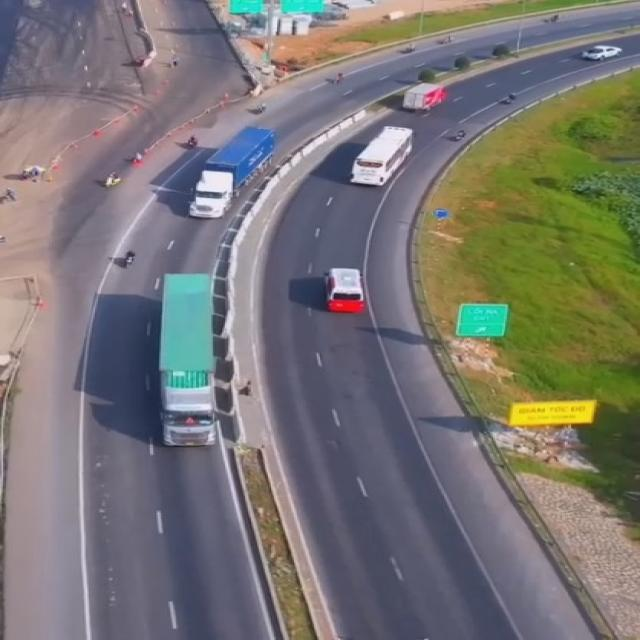bus: (347, 123, 410, 188), (320, 267, 366, 314)
car: (576, 43, 624, 62), (118, 247, 141, 268)
truck: (154, 272, 219, 447), (193, 126, 270, 222), (404, 83, 446, 115)
